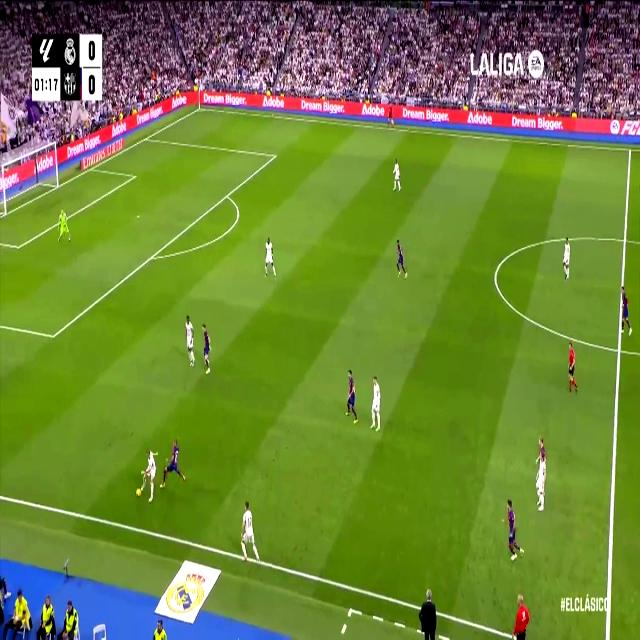bigarea_bottom_inner: (48, 324, 58, 346)
bigarea_top_inner: (272, 148, 278, 162)
bigarea_top_outter: (143, 133, 149, 143)
bottom_arc_area_intersection: (148, 248, 156, 264)
corner: (196, 102, 204, 112)
halfcircle_bottom: (615, 338, 625, 362)
halfcircle_top: (620, 229, 630, 250)
midline_top_intersection: (627, 143, 633, 156)
smallarea_bottom_inner: (14, 238, 22, 255)
smallarea_top_inner: (132, 172, 136, 180)
top_arc_area_intersection: (223, 188, 231, 202)
